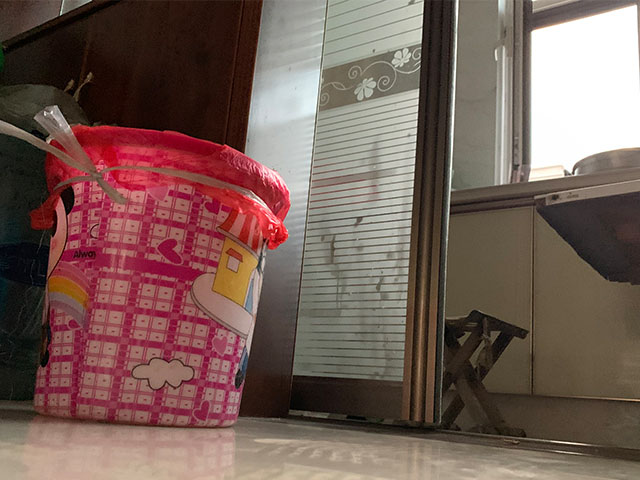cabinet: (438, 165, 640, 439)
stool: (438, 309, 530, 439)
trash can: (32, 122, 292, 430)
